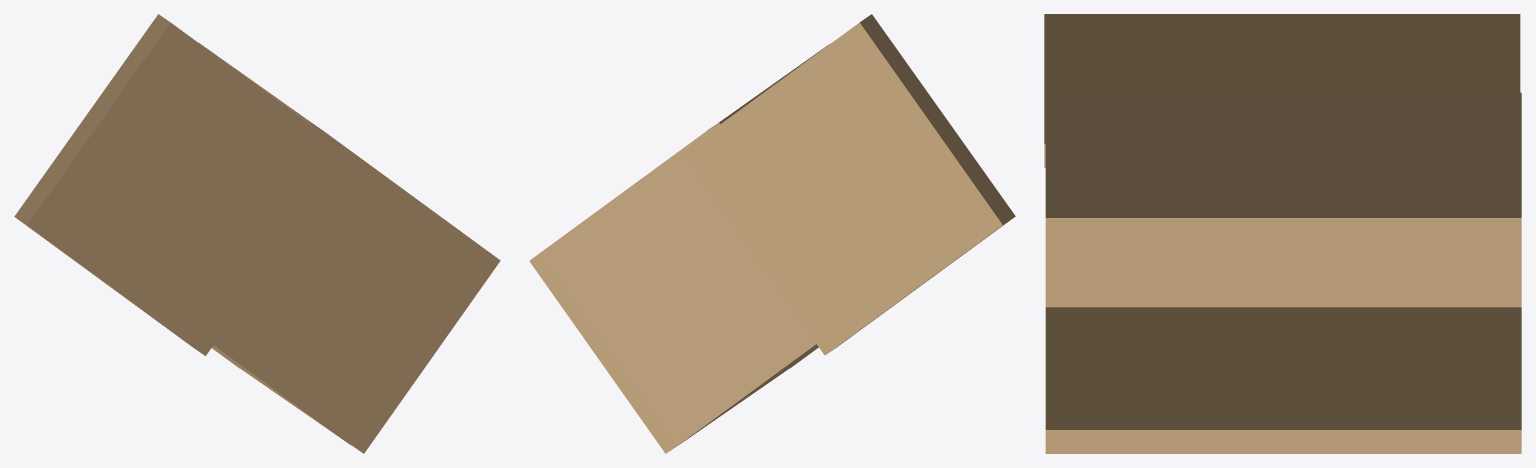
3 renders of one model, left to right at view 1: azimuth 30°, elevation 25°; view 2: azimuth 150°, elevation 25°; view 3: azimuth 270°, elevation 25°, orthographic. The views are drawn at different scales.
Visible parts, largest first — view 1: 0_2_3_2_2_0_2_2_3_1; view 2: 0_2_3_2_2_0_2_2_3_1; view 3: 0_2_3_2_2_0_2_2_3_1.
Boxes of the visible parts, x1,y1,x2,y2 form: 0_2_3_2_2_0_2_2_3_1: (14, 14, 500, 453); 0_2_3_2_2_0_2_2_3_1: (529, 14, 1015, 453); 0_2_3_2_2_0_2_2_3_1: (1044, 14, 1521, 453).
Size of the model in its own units: 20.95 by 20.54 by 21.06.
